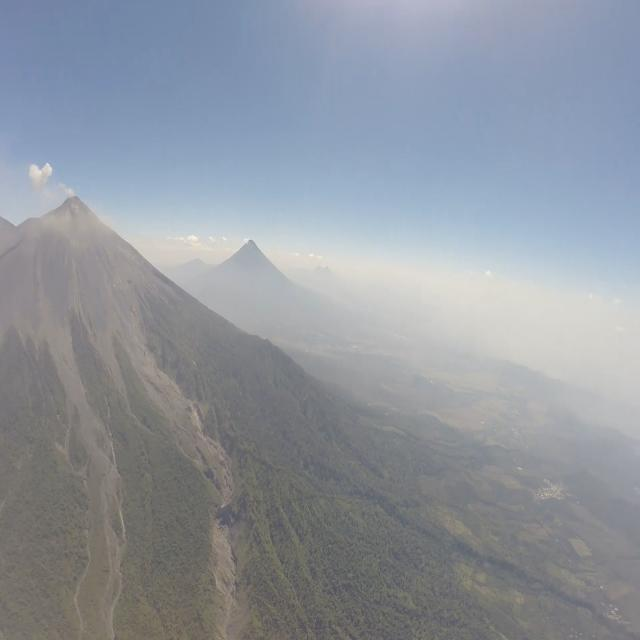Plume: (27, 160, 49, 196)
Summit: (49, 192, 100, 222)
